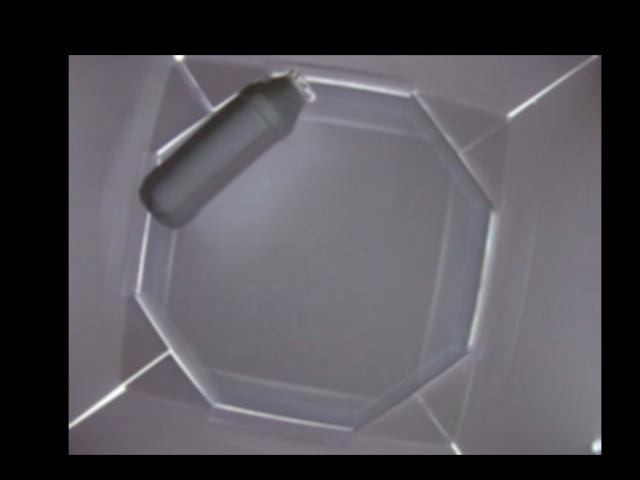Bottle: (139, 69, 318, 235)
